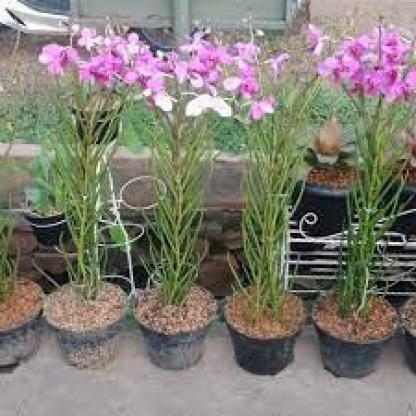ANGGREK: (33, 12, 410, 214)
